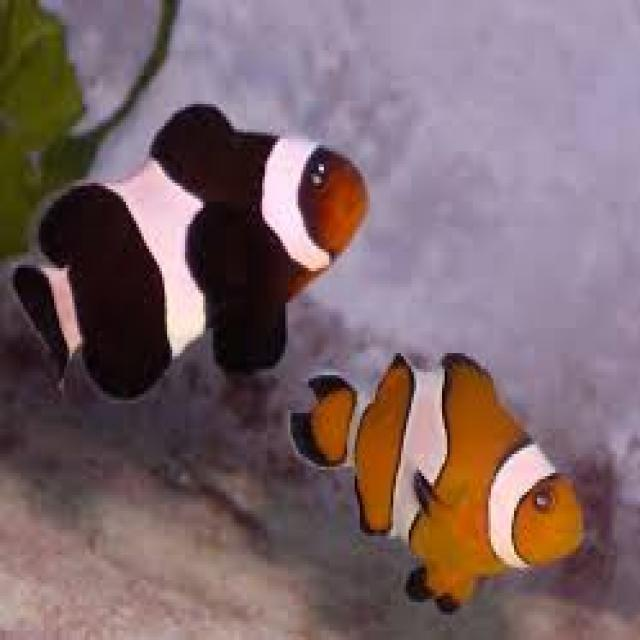ClownFish: (16, 94, 375, 426), (285, 350, 607, 618)
